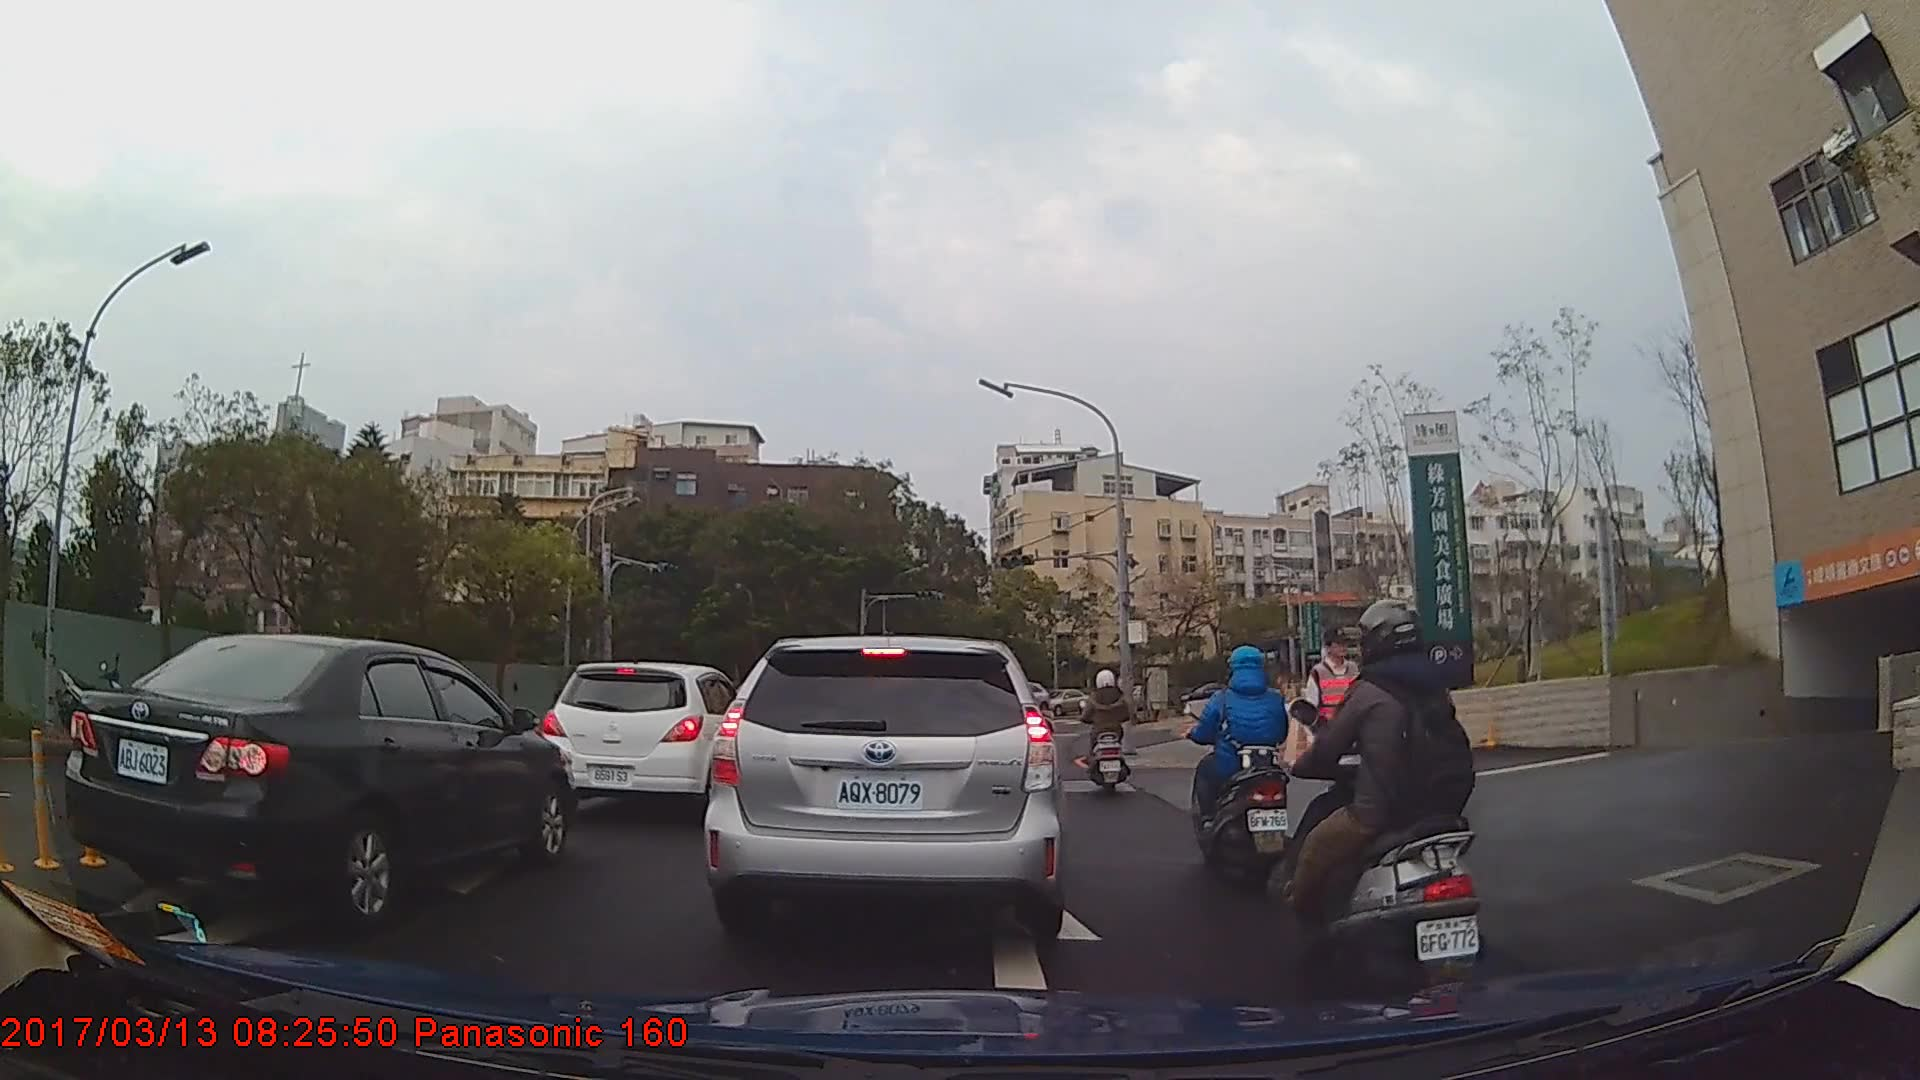pedestrian: (1298, 624, 1382, 855)
rider: (1273, 598, 1488, 1022), (1190, 643, 1300, 891), (1079, 670, 1134, 798)
vehicle: (60, 629, 572, 925), (703, 632, 1066, 943), (536, 661, 746, 821), (1176, 678, 1241, 711), (1049, 688, 1089, 717)
